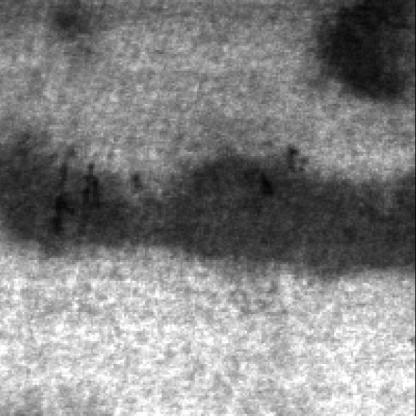patches: (137, 154, 416, 285), (2, 137, 156, 267), (322, 2, 416, 110)
